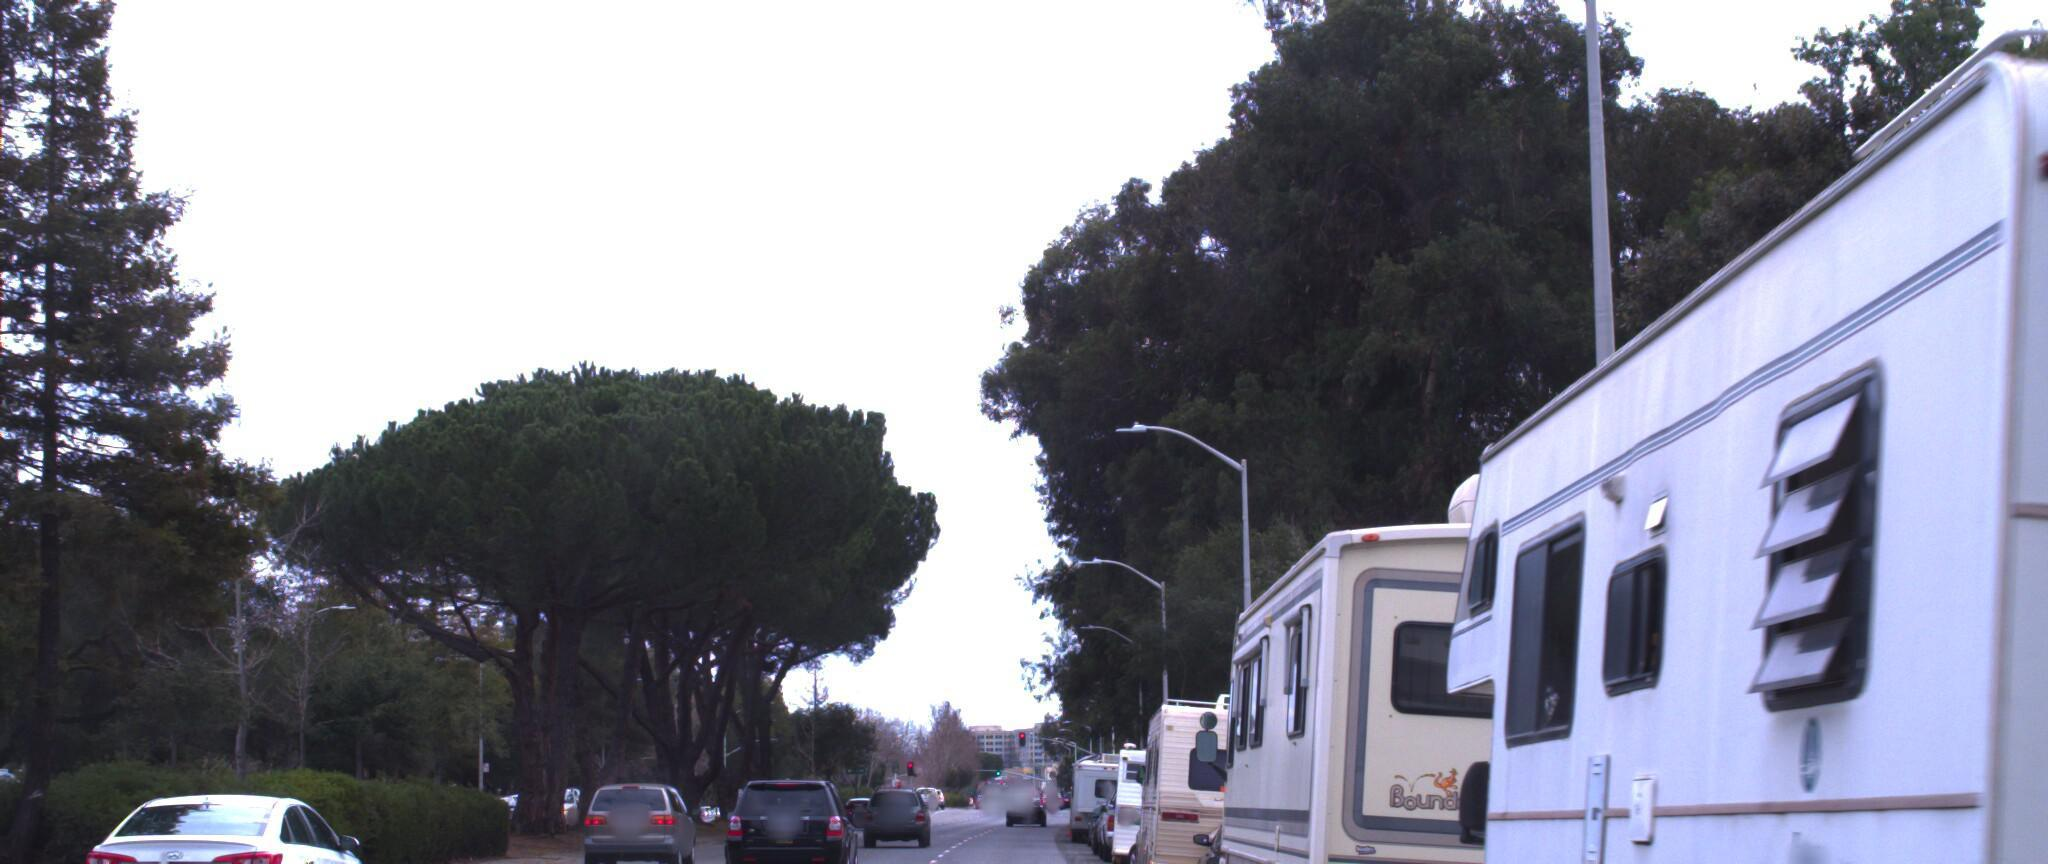car: (61, 771, 408, 864), (726, 754, 865, 864), (579, 741, 705, 837)
other_vehicle: (1368, 0, 2048, 864), (1191, 437, 1789, 864), (1115, 653, 1354, 864), (1096, 711, 1256, 857)
